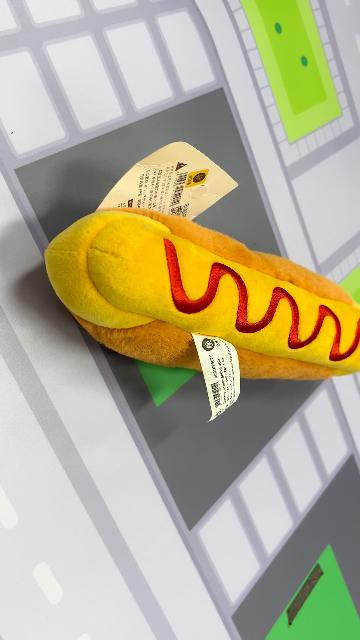hotdog: (44, 206, 358, 382)
